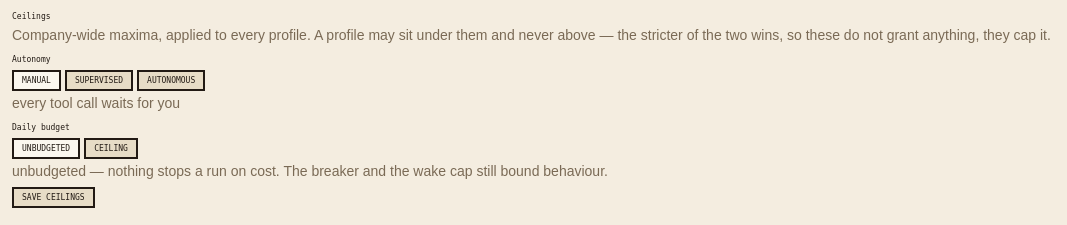
the ceilings panel, wired › sends the autonomy ceiling the Architect chose
This screenshot has width=1067, height=225.
Click the button "AUTONOMOUS" at (171, 80), box [137,70,205,91]
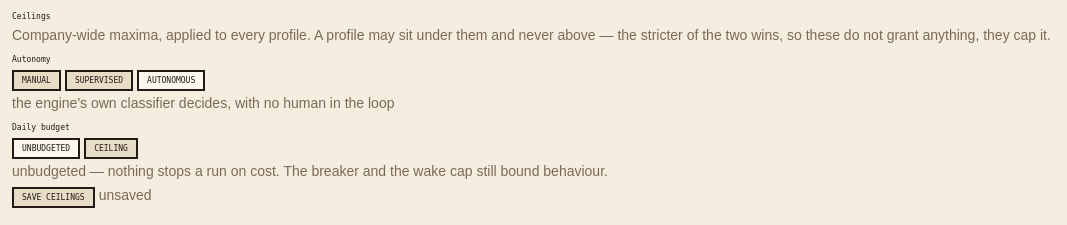
Expected: the text "unsaved" is shown, [99,187,152,203]
Click the button "SAVE CEILINGS" at (53, 198), box [12,187,95,208]
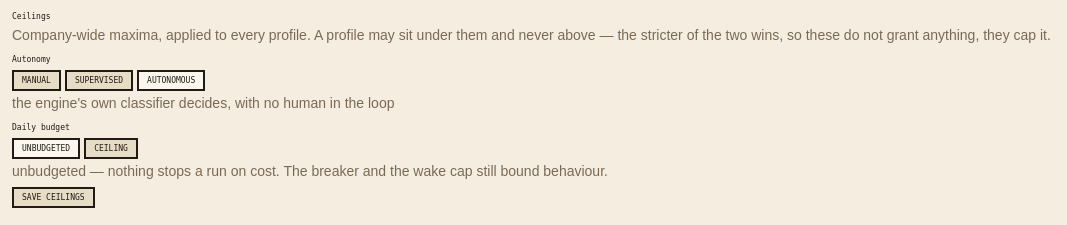
Expected: the text "unsaved" is gone
